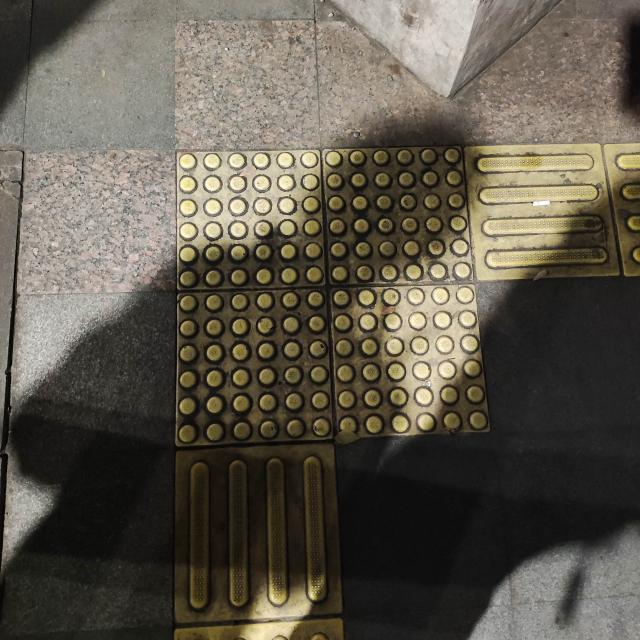kanan: (136, 107, 640, 507)
